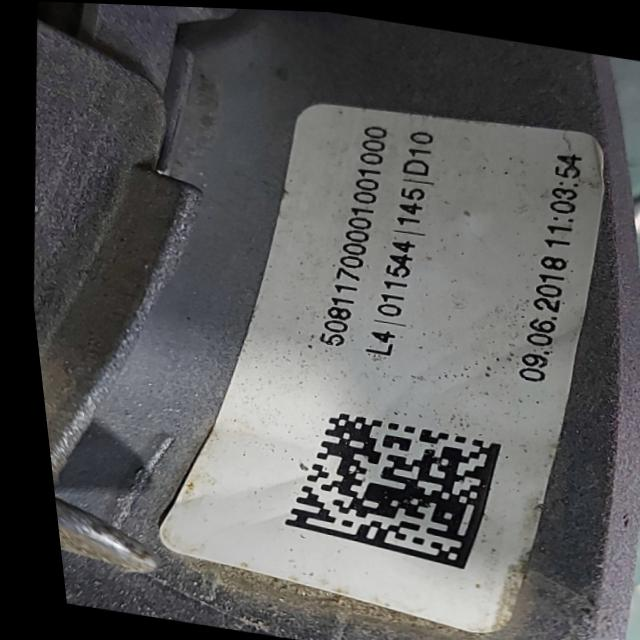datamatrix: (260, 402, 503, 572)
